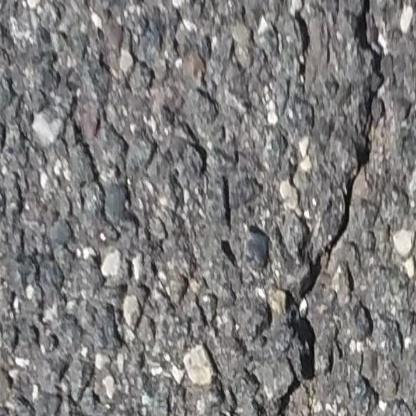Cracks: (299, 0, 394, 303), (278, 374, 312, 416)
